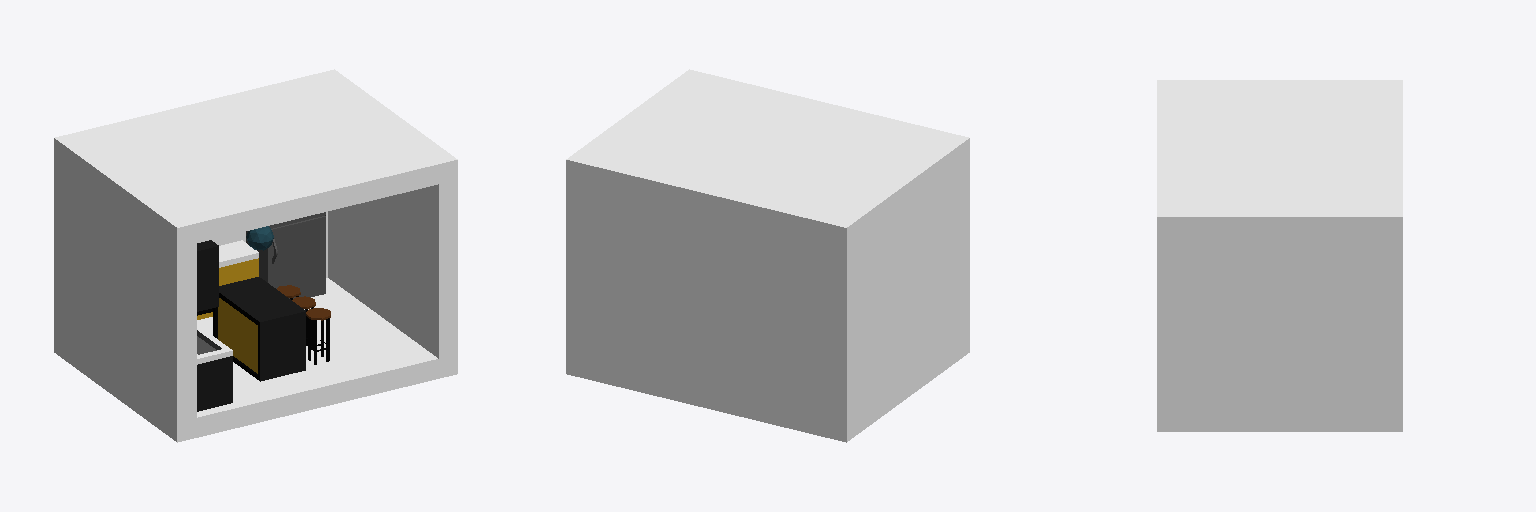
Rendered from Kitchen_1278.obj.
The picture shows the model from 3 angles: view 1: azimuth 30°, elevation 25°; view 2: azimuth 150°, elevation 25°; view 3: azimuth 270°, elevation 25°; orthographic projection.
Visible parts, largest first — view 1: Box004; view 2: Box004; view 3: Box004.
Boxes of the visible parts, x1,y1,x2,y2 form: Box004: [54, 69, 457, 442]; Box004: [566, 69, 969, 442]; Box004: [1157, 80, 1402, 431].
Size of the model in its own units: 62.93 by 45.99 by 47.88.